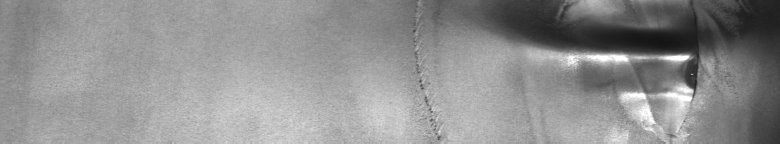ke: (405, 4, 748, 136)
